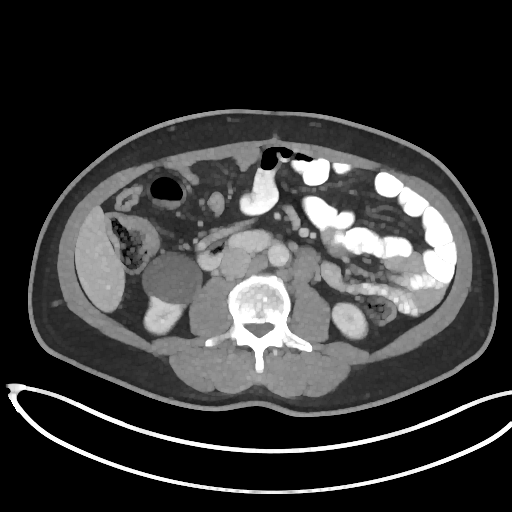Lesion: (139, 248, 203, 306)
